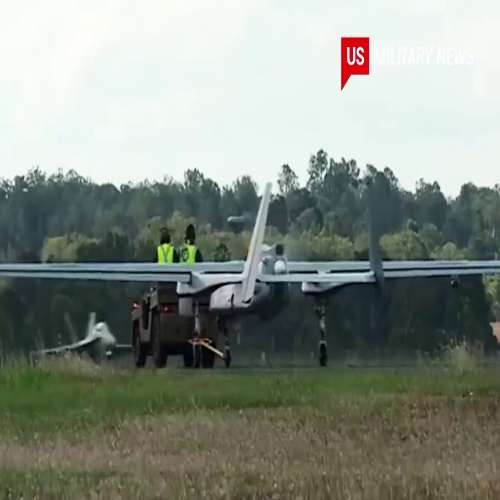uav266: (3, 186, 496, 364)
